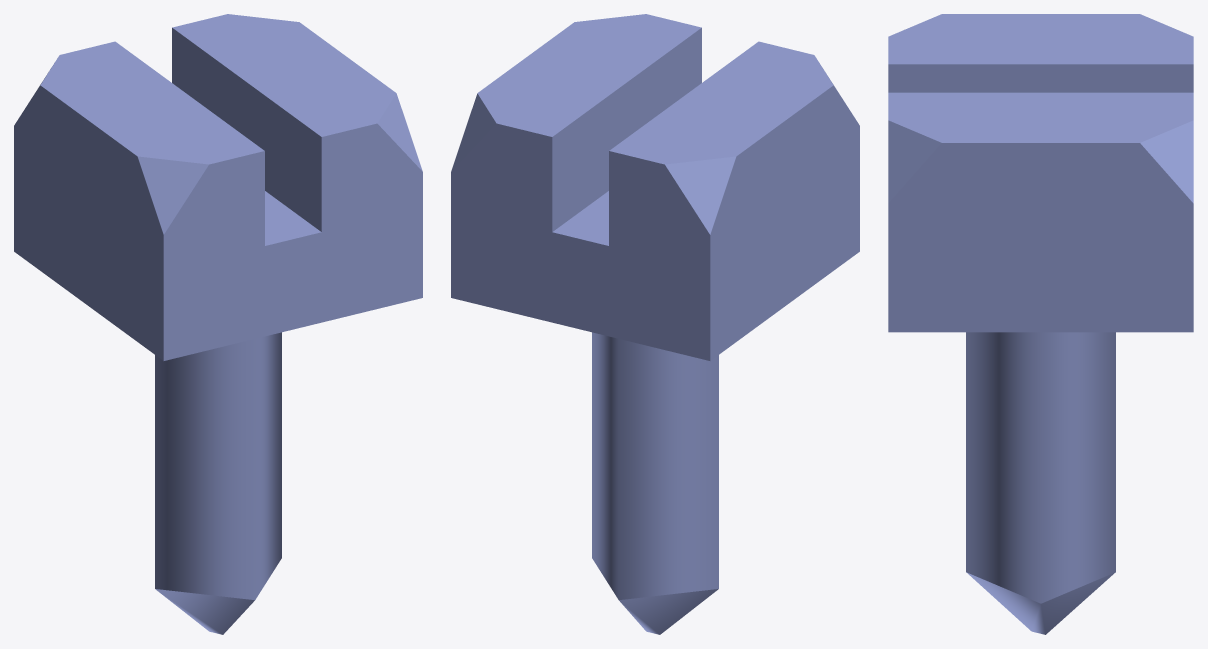
Rendered from Copie de Vis pillier^Horloge Comtoise Verge - Sonnerie_instance_1.obj.
The picture shows the model from 3 angles, left to right: view 1: azimuth 30°, elevation 25°; view 2: azimuth 150°, elevation 25°; view 3: azimuth 270°, elevation 25°; orthographic projection.
Parts seen in each view (by area): view 1: Face_7, Face_1, Face_4, Face_11, Face_15, Face_14, Face_10, Face_3, Face_17, Face_16; view 2: Face_5, Face_1, Face_4, Face_11, Face_15, Face_14, Face_9, Face_3, Face_17, Face_12; view 3: Face_6, Face_1, Face_11, Face_15, Face_13, Face_3, Face_12, Face_16.
Boxes of the visible parts, x1=… form: Face_7: x1=163, y1=123, x2=422, y2=360; Face_1: x1=155, y1=332, x2=281, y2=600; Face_4: x1=14, y1=85, x2=163, y2=360; Face_11: x1=40, y1=41, x2=264, y2=164; Face_15: x1=172, y1=14, x2=396, y2=136; Face_14: x1=172, y1=28, x2=321, y2=231; Face_10: x1=137, y1=156, x2=208, y2=234; Face_3: x1=155, y1=589, x2=254, y2=634; Face_17: x1=265, y1=191, x2=321, y2=245; Face_16: x1=377, y1=93, x2=422, y2=171; Face_5: x1=451, y1=123, x2=710, y2=360; Face_1: x1=592, y1=332, x2=718, y2=600; Face_4: x1=710, y1=85, x2=859, y2=360; Face_11: x1=609, y1=41, x2=833, y2=164; Face_15: x1=477, y1=14, x2=701, y2=136; Face_14: x1=552, y1=28, x2=701, y2=231; Face_9: x1=665, y1=156, x2=736, y2=234; Face_3: x1=619, y1=589, x2=718, y2=634; Face_17: x1=552, y1=191, x2=608, y2=245; Face_12: x1=451, y1=93, x2=496, y2=171; Face_6: x1=888, y1=143, x2=1193, y2=332; Face_1: x1=966, y1=332, x2=1115, y2=603; Face_11: x1=888, y1=14, x2=1193, y2=64; Face_15: x1=888, y1=92, x2=1193, y2=142; Face_13: x1=888, y1=64, x2=1193, y2=92; Face_3: x1=966, y1=572, x2=1115, y2=634; Face_12: x1=1140, y1=120, x2=1193, y2=203; Face_16: x1=888, y1=120, x2=941, y2=203.
Bounding box in the file's own units: 0.0057 × 0.0114 × 0.0057.
